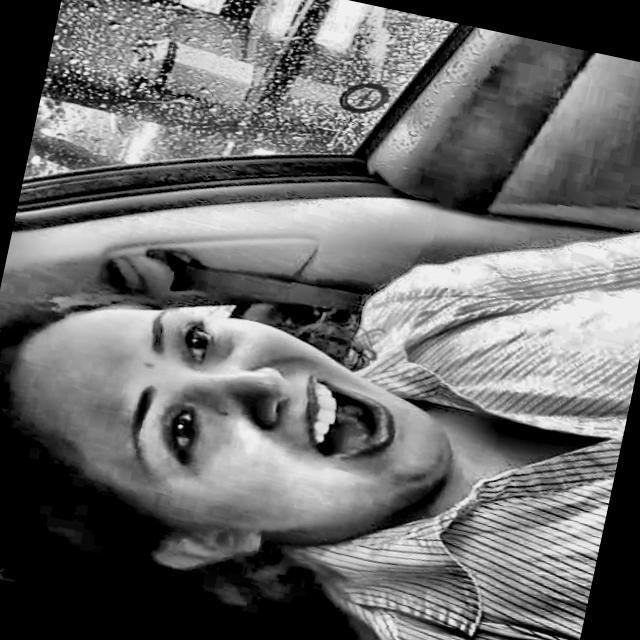open_eyes: (156, 397, 218, 472), (171, 307, 232, 369)
open_mouth: (293, 368, 405, 485)
